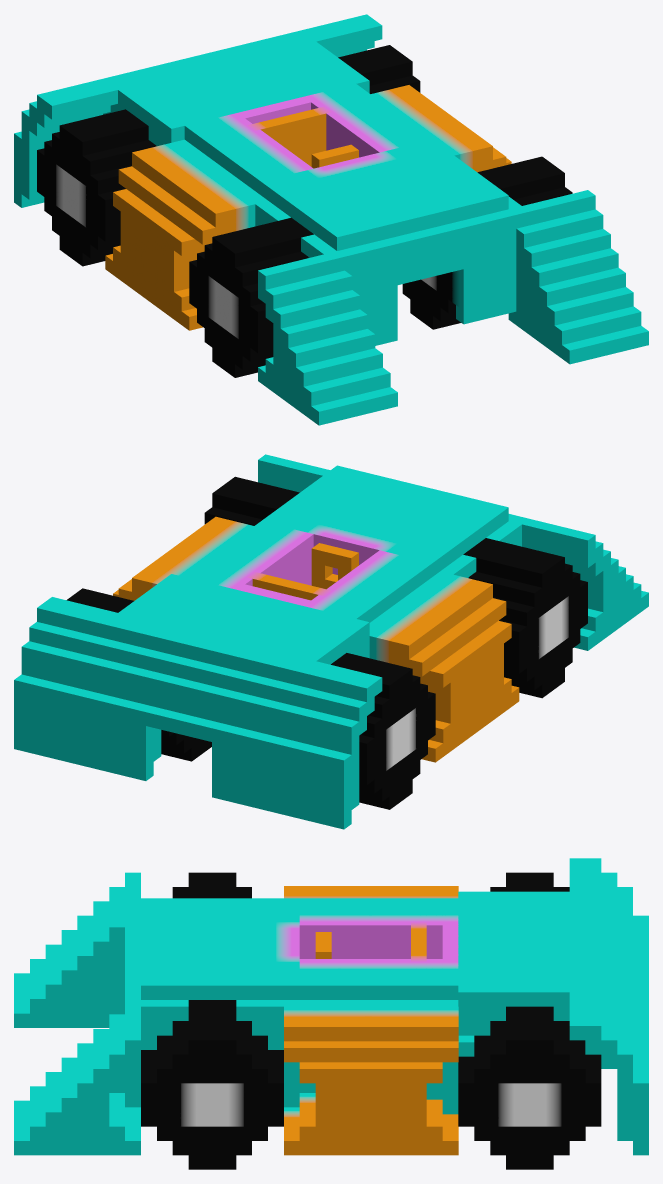
File: Car_18.fbx
The picture shows the model from 3 angles, top to bottom: view 1: azimuth 30°, elevation 25°; view 2: azimuth 150°, elevation 25°; view 3: azimuth 270°, elevation 25°; orthographic projection. The views are drawn at different scales.
Parts seen in each view (by area): view 1: Car_18; view 2: Car_18; view 3: Car_18.
Part boxes in pixels (<box>): Car_18: <box>14,14,648,425</box>; Car_18: <box>14,454,648,829</box>; Car_18: <box>14,858,648,1169</box>.
Bounding box in the file's own units: 25 × 10 × 40.
1 material, 1 textured.
